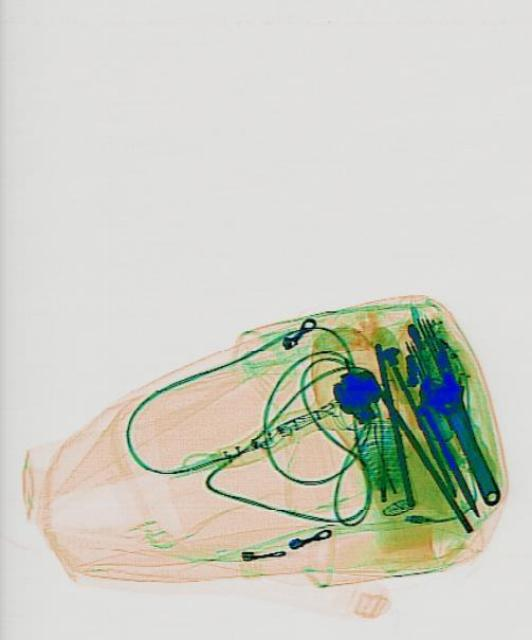Wrench: (417, 362, 505, 511)
